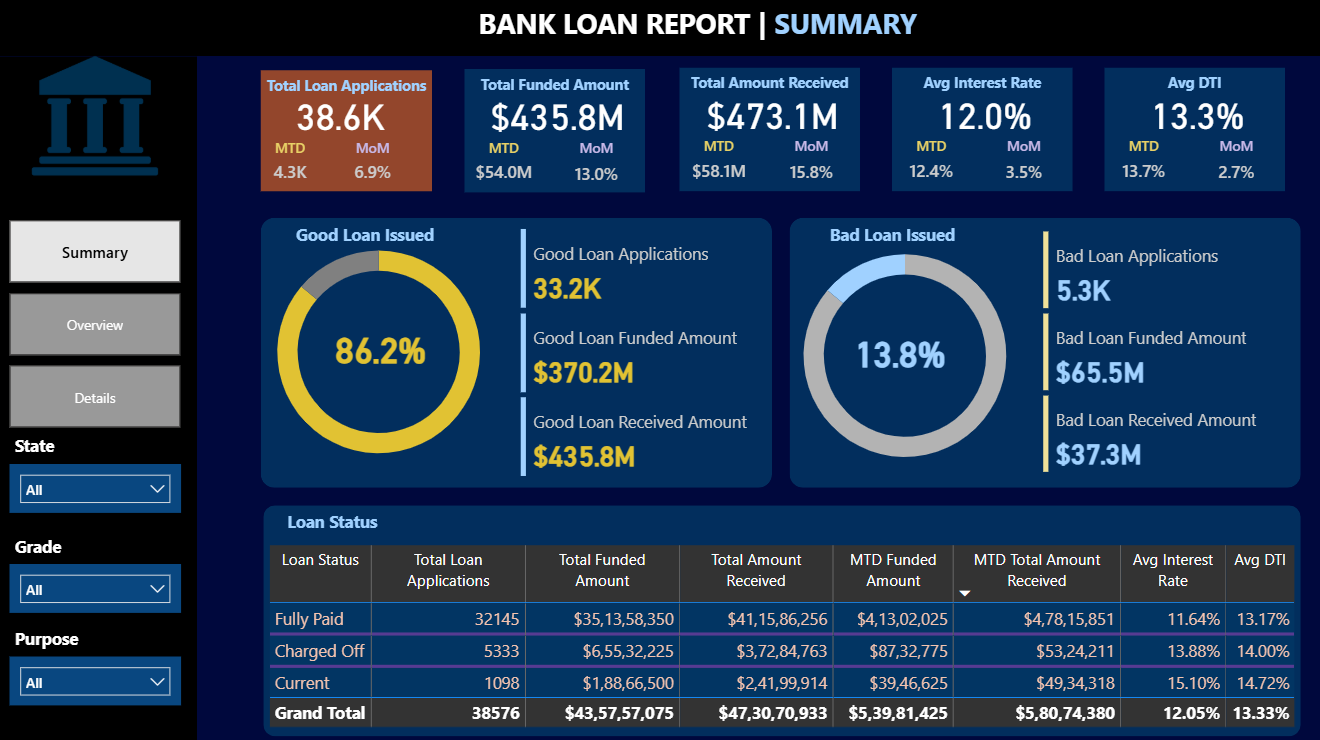

What the dashboard file says about the page in this screenshot:
{"tool":"powerbi","page":{"name":"Summary","canvas":[1280,720],"ordinal":0},"visuals":[{"type":"shape","box":[1.2,55.5,191.8,664.7],"z":0},{"type":"shape","box":[0,0,1280,55],"z":1000},{"type":"textbox","box":[459.7,0,627.3,62.7],"z":2000},{"type":"group","id":"g1","title":"Group 2","box":[241.3,49.5,178.6,136.3],"z":3000},{"type":"group","id":"g2","title":"Group 1","box":[658.1,66.3,174.2,121.5],"z":3000,"group":"g9"},{"type":"shape","box":[658.1,66.3,174.2,119.1],"z":3000,"group":"g2"},{"type":"group","id":"g3","title":"Group 1","box":[863.5,66.3,174.2,121.5],"z":3000,"group":"g10"},{"type":"shape","box":[863.5,66.3,174.2,119.1],"z":3000,"group":"g3"},{"type":"group","id":"g4","title":"Group 1","box":[1068.9,66.3,174.2,121.5],"z":3000,"group":"g11"},{"type":"shape","box":[1068.9,66.3,174.2,119.1],"z":3000,"group":"g4"},{"type":"group","id":"g5","title":"Group 1","box":[451.5,67.5,174.2,121.5],"z":3000,"group":"g7"},{"type":"shape","box":[451.5,67.5,174.2,119.1],"z":3000,"group":"g5"},{"type":"group","id":"g6","title":"Group 1","box":[241.3,68.8,178.6,117],"z":3000,"group":"g8"},{"type":"shape","box":[254.6,68.8,165.3,117],"z":3000,"group":"g6"},{"type":"card","fields":{"Values":["All Measures.Total Amount Received"]},"box":[674.4,48.3,146,124.3],"z":4000,"group":"g9"},{"type":"card","fields":{"Values":["All Measures.Avg Interest Rate"]},"box":[879.8,48.3,146,124.3],"z":4000,"group":"g10"},{"type":"card","fields":{"Values":["All Measures.Avg DTI"]},"box":[1085.2,48.3,146,124.3],"z":4000,"group":"g11"},{"type":"card","fields":{"Values":["All Measures.Total Loan Applications"]},"box":[254.6,49.5,154.4,123.1],"z":4000,"group":"g8"},{"type":"group","id":"g7","title":"Group 2","box":[451.5,49.5,174.9,138.7],"z":4000},{"type":"card","fields":{"Values":["All Measures.Total Funded Amount"]},"box":[467.8,49.5,146,124.3],"z":4000,"group":"g7"},{"type":"group","id":"g8","title":"Group 3","box":[241.3,49.5,178.6,136.3],"z":4001,"group":"g1"},{"type":"textbox","box":[658.1,66.3,174.2,43],"z":5000,"group":"g2"},{"type":"textbox","box":[863.5,66.3,174.2,43],"z":5000,"group":"g3"},{"type":"textbox","box":[1068.9,66.3,174.2,43],"z":5000,"group":"g4"},{"type":"textbox","box":[451.5,67.5,174.2,43],"z":5000,"group":"g5"},{"type":"textbox","box":[254.6,68.8,165.3,42.2],"z":5000,"group":"g6"},{"type":"shape","box":[764.9,211.1,493.4,260.6],"z":5000},{"type":"card","title":"MTD","fields":{"Values":["All Measures.MTD Total Amount Received"]},"box":[658.8,132.3,73.6,53.1],"z":6000,"group":"g2"},{"type":"card","title":"MTD","fields":{"Values":["All Measures.MTD Interest Rate"]},"box":[864.2,132.3,73.6,53.1],"z":6000,"group":"g3"},{"type":"card","title":"MTD","fields":{"Values":["All Measures.MTD Avg DTI"]},"box":[1069.6,132.3,73.6,53.1],"z":6000,"group":"g4"},{"type":"card","title":"MTD","fields":{"Values":["All Measures.MTD Funded Amount"]},"box":[452.2,133.5,73.6,53.1],"z":6000,"group":"g5"},{"type":"card","title":"MTD","fields":{"Values":["All Measures.MTD Total Loan Applications"]},"box":[241.3,133.9,83.2,51.9],"z":6000,"group":"g6"},{"type":"card","fields":{"Values":["All Measures.Bad Loan %"]},"box":[798.7,278.7,146,124.3],"z":6000},{"type":"card","title":"MoM","fields":{"Values":["All Measures.MOM Amount Received"]},"box":[750,132.3,71.2,55.5],"z":7000,"group":"g2"},{"type":"card","title":"MoM","fields":{"Values":["All Measures.MOM Interest Rate"]},"box":[955.4,132.3,71.2,55.5],"z":7000,"group":"g3"},{"type":"card","title":"MoM","fields":{"Values":["All Measures.MOM Avg DTI"]},"box":[1160.8,132.3,71.2,55.5],"z":7000,"group":"g4"},{"type":"card","title":"MoM","fields":{"Values":["All Measures.MOM Funded Amount"]},"box":[543.4,133.5,71.2,55.5],"z":7000,"group":"g5"},{"type":"card","title":"MoM","fields":{"Values":["All Measures.MOM Loan Applications"]},"box":[316.1,133.9,92.9,51.9],"z":7000,"group":"g6"},{"type":"shape","box":[254.6,211.1,493.4,260.6],"z":7000},{"type":"card","fields":{"Values":["All Measures.Good Loan %"]},"box":[311.3,288.3,118.2,96.5],"z":8000},{"type":"group","id":"g9","title":"Group 2","box":[658.1,48.3,173.7,138.7],"z":9000},{"type":"group","id":"g10","title":"Group 2","box":[863.5,48.3,173.7,138.7],"z":10000},{"type":"group","id":"g11","title":"Group 2","box":[1068.9,48.3,173.7,138.7],"z":11000},{"type":"donutChart","fields":{"Category":["bank_loan.Good Loan Vs Bad Loan"],"Y":["All Measures.Total Loan Applications"]},"box":[240.1,213.5,257,254.6],"z":12000},{"type":"textbox","box":[283.5,211.1,213.5,56.7],"z":13000},{"type":"cardVisual","fields":{"Data":["All Measures.Good Loan Applications","All Measures.Good Loan Funded Amount","All Measures.Good Loan Amount Received"]},"box":[500.7,217.2,493.4,248.5],"z":14000},{"type":"donutChart","fields":{"Category":["bank_loan.Good Loan Vs Bad Loan"],"Y":["All Measures.Total Loan Applications"]},"box":[748,217.2,257,254.6],"z":15000},{"type":"textbox","box":[798.7,211.1,213.5,56.7],"z":16000},{"type":"cardVisual","fields":{"Data":["All Measures.Bad Loan Applications","All Measures.Bad Loan Funded Amount","All Measures.Bad Loan Received Amount"]},"box":[1005,219.6,240.1,242.5],"z":17000},{"type":"shape","box":[257,488.6,1001.3,223.2],"z":18000},{"type":"tableEx","fields":{"Values":["bank_loan.loan_status","All Measures.Total Loan Applications","All Measures.Total Funded Amount","All Measures.Total Amount Received","All Measures.MTD Funded Amount","All Measures.MTD Total Amount Received","All Measures.Avg Interest Rate","All Measures.Avg DTI"]},"box":[257,522.4,1001.3,189.4],"z":19000},{"type":"textbox","box":[293.5,221.1,213.5,56.7],"z":20000},{"type":"textbox","box":[275.1,488.6,213.5,56.7],"z":21000},{"type":"slicer","fields":{"Values":["bank_loan.address_state"]},"box":[12.1,448.8,165.3,47.1],"z":22000},{"type":"textbox","box":[12.1,415,213.5,56.7],"z":23000},{"type":"slicer","fields":{"Values":["bank_loan.grade"]},"box":[12.1,545.3,165.3,47.1],"z":24000},{"type":"textbox","box":[12.1,512.7,213.5,56.7],"z":25000},{"type":"slicer","fields":{"Values":["bank_loan.purpose"]},"box":[12.1,634.6,165.3,47.1],"z":26000},{"type":"textbox","box":[12.1,600.8,213.5,56.7],"z":27000},{"type":"pageNavigator","box":[12.1,213.5,165.3,201.5],"z":28000},{"type":"image","box":[12.1,37.4,165.3,150.8],"z":29000}]}

Visuals, with their boxes in screenshot pixels (x1, y1, x2, y2), scaled from the page's 1280x720 canvas onto the 1320x740 screenshot:
shape: bbox=(1, 57, 199, 739)
shape: bbox=(0, 0, 1319, 57)
textbox: bbox=(474, 0, 1121, 64)
"Group 2" group: bbox=(249, 51, 433, 191)
"Group 1" group: bbox=(679, 68, 858, 193)
shape: bbox=(679, 68, 858, 191)
"Group 1" group: bbox=(890, 68, 1070, 193)
shape: bbox=(890, 68, 1070, 191)
"Group 1" group: bbox=(1102, 68, 1282, 193)
shape: bbox=(1102, 68, 1282, 191)
"Group 1" group: bbox=(466, 69, 645, 194)
shape: bbox=(466, 69, 645, 192)
"Group 1" group: bbox=(249, 71, 433, 191)
shape: bbox=(263, 71, 433, 191)
card - All Measures.Total Amount Received: bbox=(695, 50, 846, 177)
card - All Measures.Avg Interest Rate: bbox=(907, 50, 1058, 177)
card - All Measures.Avg DTI: bbox=(1119, 50, 1270, 177)
card - All Measures.Total Loan Applications: bbox=(263, 51, 422, 177)
"Group 2" group: bbox=(466, 51, 646, 193)
card - All Measures.Total Funded Amount: bbox=(482, 51, 633, 179)
"Group 3" group: bbox=(249, 51, 433, 191)
textbox: bbox=(679, 68, 858, 112)
textbox: bbox=(890, 68, 1070, 112)
textbox: bbox=(1102, 68, 1282, 112)
textbox: bbox=(466, 69, 645, 114)
textbox: bbox=(263, 71, 433, 114)
shape: bbox=(789, 217, 1298, 485)
"MTD" card: bbox=(679, 136, 755, 191)
"MTD" card: bbox=(891, 136, 967, 191)
"MTD" card: bbox=(1103, 136, 1179, 191)
"MTD" card: bbox=(466, 137, 542, 192)
"MTD" card: bbox=(249, 138, 335, 191)
card - All Measures.Bad Loan %: bbox=(824, 286, 974, 414)
"MoM" card: bbox=(773, 136, 847, 193)
"MoM" card: bbox=(985, 136, 1059, 193)
"MoM" card: bbox=(1197, 136, 1270, 193)
"MoM" card: bbox=(560, 137, 634, 194)
"MoM" card: bbox=(326, 138, 422, 191)
shape: bbox=(263, 217, 771, 485)
card - All Measures.Good Loan %: bbox=(321, 296, 443, 395)
"Group 2" group: bbox=(679, 50, 858, 192)
"Group 2" group: bbox=(890, 50, 1070, 192)
"Group 2" group: bbox=(1102, 50, 1281, 192)
donutChart - bank_loan.Good Loan Vs Bad Loan x All Measures.Total Loan Applications: bbox=(248, 219, 513, 481)
textbox: bbox=(292, 217, 513, 275)
cardVisual - All Measures.Good Loan Applications x All Measures.Good Loan Funded Amount: bbox=(516, 223, 1025, 479)
donutChart - bank_loan.Good Loan Vs Bad Loan x All Measures.Total Loan Applications: bbox=(771, 223, 1036, 485)
textbox: bbox=(824, 217, 1044, 275)
cardVisual - All Measures.Bad Loan Applications x All Measures.Bad Loan Funded Amount: bbox=(1036, 226, 1284, 475)
shape: bbox=(265, 502, 1298, 732)
tableEx - bank_loan.loan_status x All Measures.Total Loan Applications: bbox=(265, 537, 1298, 732)
textbox: bbox=(303, 227, 523, 286)
textbox: bbox=(284, 502, 504, 560)
slicer - bank_loan.address_state: bbox=(12, 461, 183, 510)
textbox: bbox=(12, 427, 233, 485)
slicer - bank_loan.grade: bbox=(12, 560, 183, 609)
textbox: bbox=(12, 527, 233, 585)
slicer - bank_loan.purpose: bbox=(12, 652, 183, 701)
textbox: bbox=(12, 617, 233, 676)
pageNavigator: bbox=(12, 219, 183, 427)
image: bbox=(12, 38, 183, 193)
